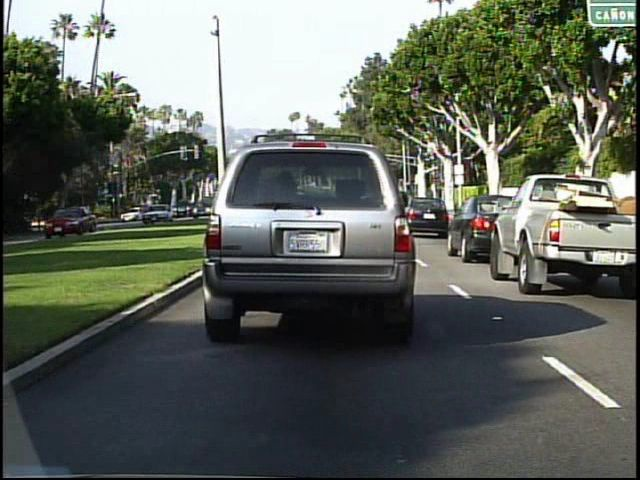person: (69, 205, 81, 226)
